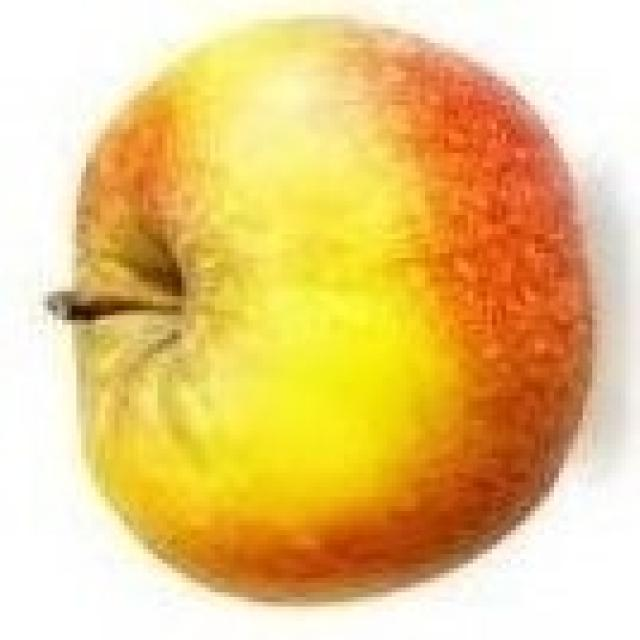75-_ripeness: (65, 12, 592, 606)
